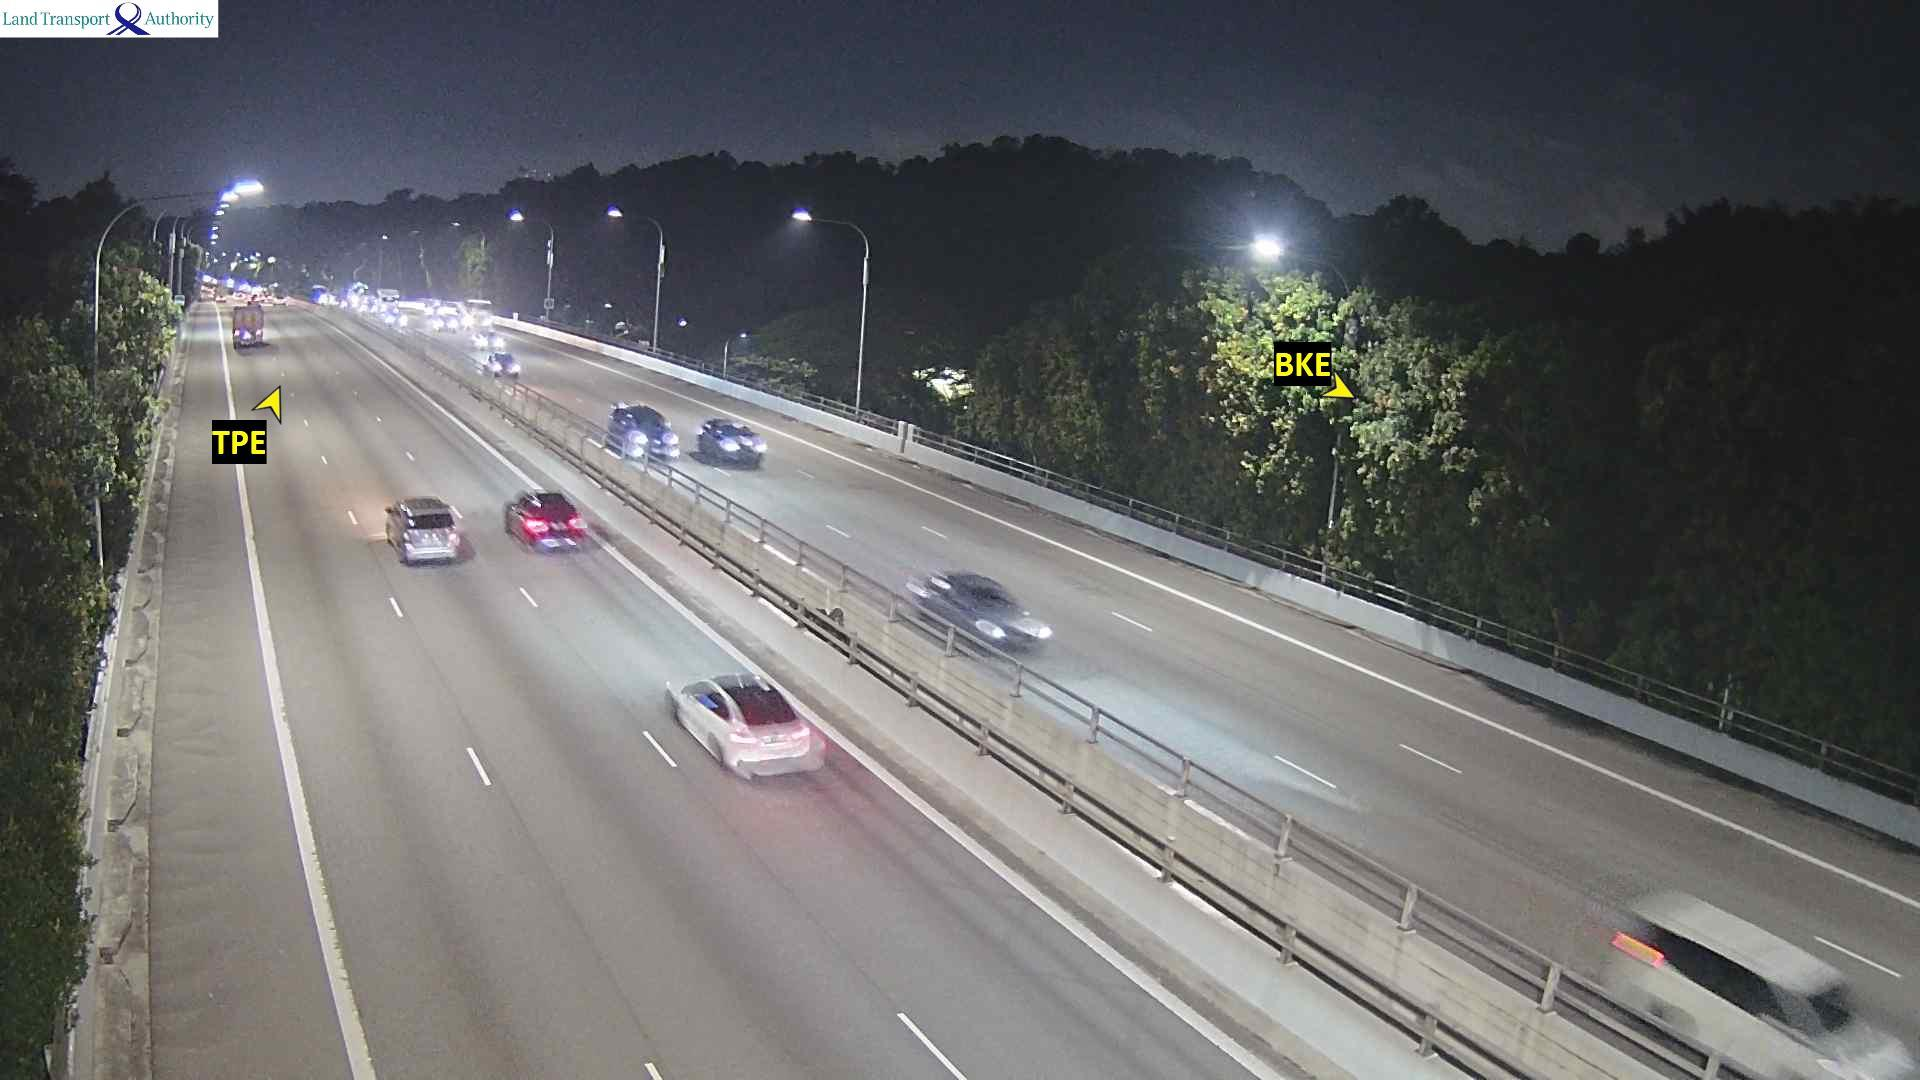incoming: (1785, 965, 1912, 1070), (969, 589, 1068, 656), (709, 427, 776, 468), (623, 411, 682, 455), (469, 301, 502, 331), (490, 351, 527, 377), (375, 285, 401, 308), (476, 336, 507, 352), (435, 316, 461, 332)
